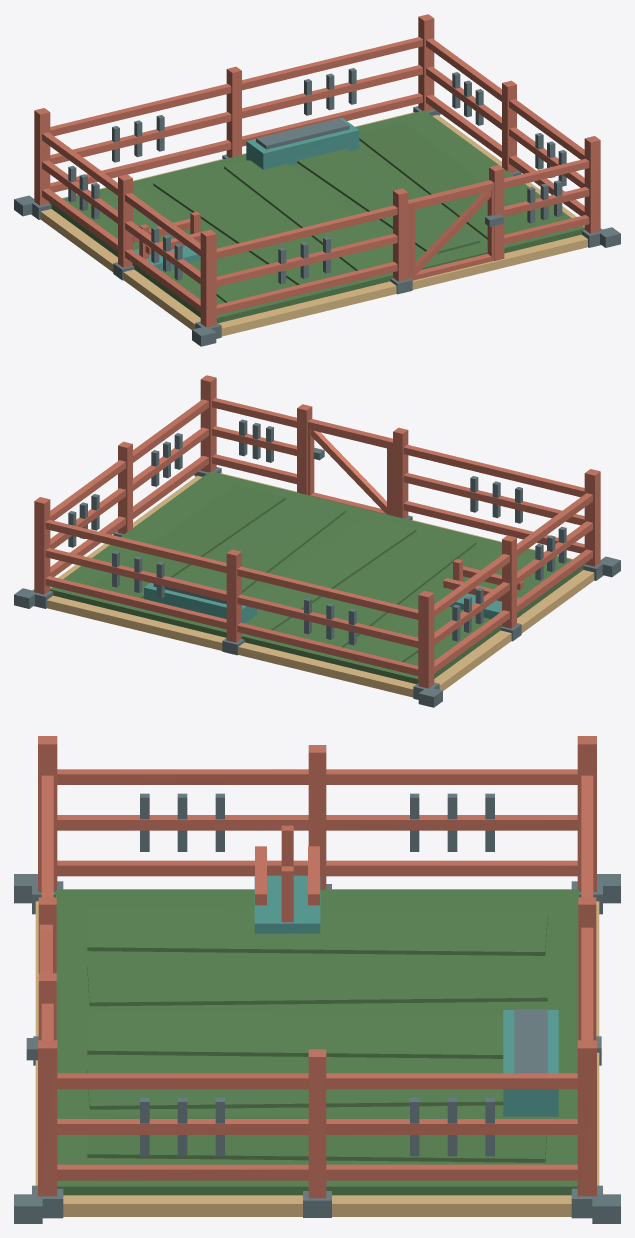
File: Fenced-Grazing-Field.glb
3 views of the same model, one above another, from view 1: azimuth 30°, elevation 25°; view 2: azimuth 150°, elevation 25°; view 3: azimuth 270°, elevation 25° (orthographic). The views are drawn at different scales.
Parts seen in each view (by area): view 1: fenced-grazing-field-static-fenced-grazing-field-weathered-t, fenced-grazing-field-static-fenced-grazing-field-muted-grass, fenced-grazing-field-static-fenced-grazing-field-dark-iron-m, fenced-grazing-field-static-fenced-grazing-field-earth-curb-, fenced-grazing-field-static-fenced-grazing-field-blue-grey-f; view 2: fenced-grazing-field-static-fenced-grazing-field-weathered-t, fenced-grazing-field-static-fenced-grazing-field-muted-grass, fenced-grazing-field-static-fenced-grazing-field-earth-curb-, fenced-grazing-field-static-fenced-grazing-field-dark-iron-m, fenced-grazing-field-static-fenced-grazing-field-blue-grey-f; view 3: fenced-grazing-field-static-fenced-grazing-field-muted-grass, fenced-grazing-field-static-fenced-grazing-field-weathered-t, fenced-grazing-field-static-fenced-grazing-field-dark-iron-m, fenced-grazing-field-static-fenced-grazing-field-earth-curb-, fenced-grazing-field-static-fenced-grazing-field-blue-grey-f.
Boxes of the visible parts, x1,y1,x2,y2 form: fenced-grazing-field-static-fenced-grazing-field-weathered-t: [34, 14, 600, 327]; fenced-grazing-field-static-fenced-grazing-field-muted-grass: [49, 110, 584, 323]; fenced-grazing-field-static-fenced-grazing-field-dark-iron-m: [14, 68, 620, 346]; fenced-grazing-field-static-fenced-grazing-field-earth-curb-: [40, 112, 587, 336]; fenced-grazing-field-static-fenced-grazing-field-blue-grey-f: [133, 117, 359, 271]; fenced-grazing-field-static-fenced-grazing-field-weathered-t: [34, 375, 600, 688]; fenced-grazing-field-static-fenced-grazing-field-muted-grass: [50, 471, 585, 684]; fenced-grazing-field-static-fenced-grazing-field-earth-curb-: [47, 473, 594, 697]; fenced-grazing-field-static-fenced-grazing-field-dark-iron-m: [14, 419, 620, 707]; fenced-grazing-field-static-fenced-grazing-field-blue-grey-f: [144, 583, 519, 623]; fenced-grazing-field-static-fenced-grazing-field-muted-grass: [56, 889, 578, 1195]; fenced-grazing-field-static-fenced-grazing-field-weathered-t: [38, 736, 596, 1198]; fenced-grazing-field-static-fenced-grazing-field-dark-iron-m: [14, 793, 620, 1223]; fenced-grazing-field-static-fenced-grazing-field-earth-curb-: [35, 901, 599, 1216]; fenced-grazing-field-static-fenced-grazing-field-blue-grey-f: [254, 875, 558, 1116].
Size of the model in its own units: 6.56 by 1.54 by 5.06.
